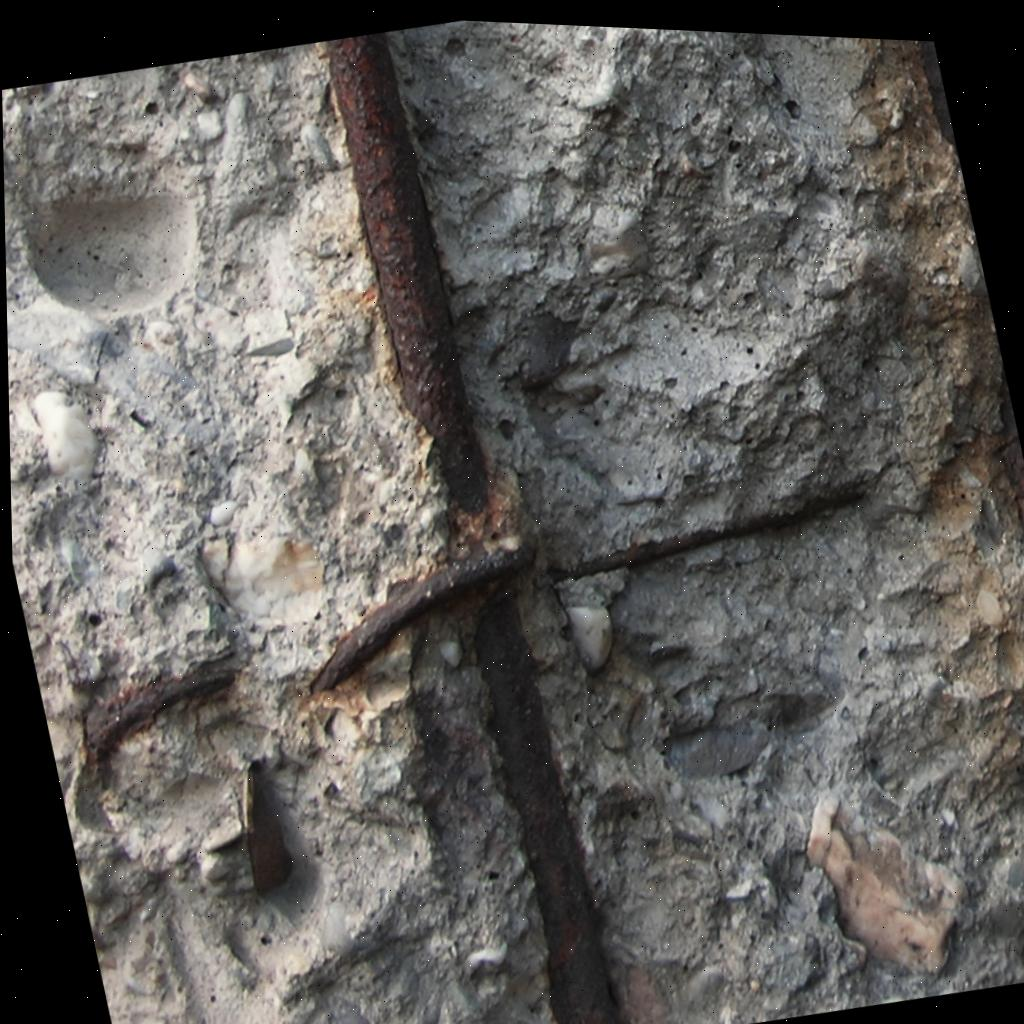exposed_rebar: (311, 542, 620, 1024), (326, 33, 490, 515), (576, 495, 852, 575), (85, 654, 238, 757)
spalling: (2, 21, 1024, 1024)
